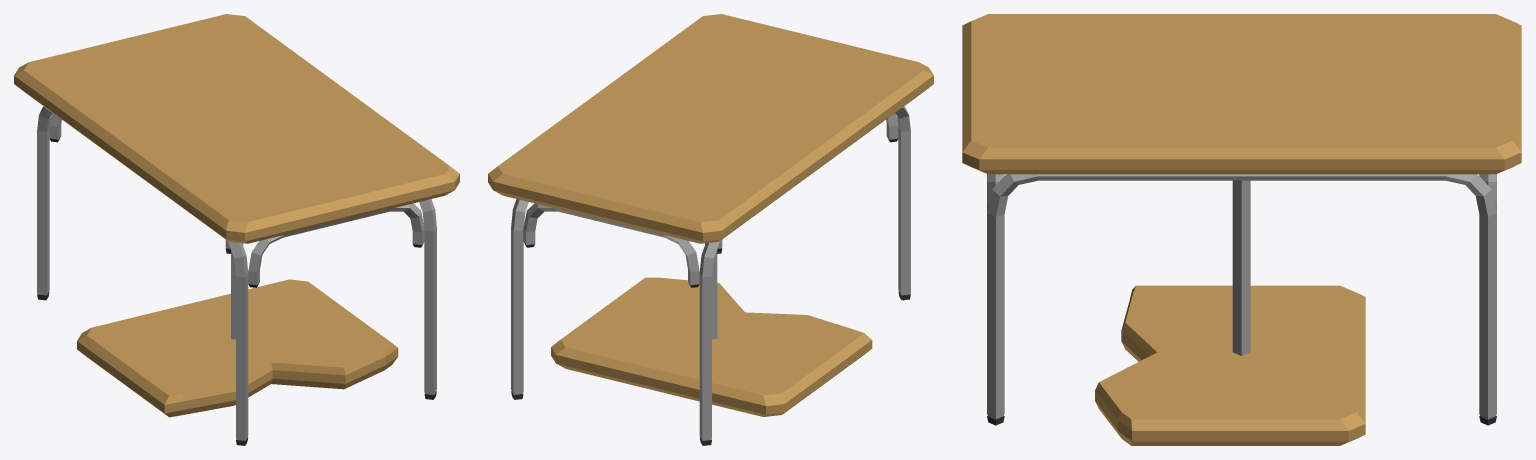
File: SM_BigTable_v03.fbx
The picture shows the model from 3 angles, left to right: view 1: azimuth 30°, elevation 25°; view 2: azimuth 150°, elevation 25°; view 3: azimuth 270°, elevation 25°; orthographic projection. The views are drawn at different scales.
Parts seen in each view (by area): view 1: SM_BigTable, SM_BigTable_B.Table; view 2: SM_BigTable, SM_BigTable_B.Table, SM_BigTable_B.Leg; view 3: SM_BigTable, SM_BigTable_B.Table, SM_BigTable_B.Leg.
Part boxes in pixels (x1,y1,x2,y2): SM_BigTable: [14, 14, 459, 445]; SM_BigTable_B.Table: [77, 279, 398, 417]; SM_BigTable: [488, 14, 933, 445]; SM_BigTable_B.Table: [551, 277, 872, 416]; SM_BigTable_B.Leg: [705, 243, 717, 339]; SM_BigTable: [962, 14, 1521, 425]; SM_BigTable_B.Table: [1095, 285, 1365, 445]; SM_BigTable_B.Leg: [1232, 180, 1250, 355].
Bounding box in the file's own units: 0.8398 × 0.8274 × 1.41.
